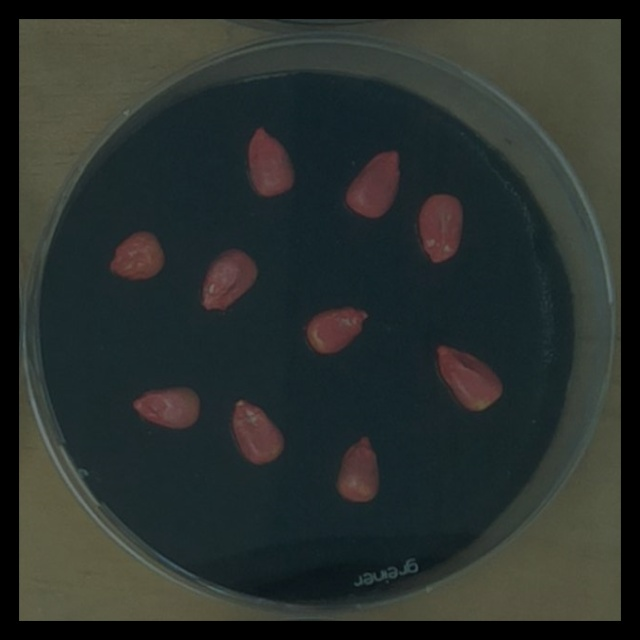Zea mays: (428, 337, 510, 416), (337, 142, 408, 225), (193, 241, 263, 319), (240, 116, 303, 202), (227, 392, 292, 471), (411, 184, 470, 271), (330, 428, 387, 509), (126, 378, 208, 434), (300, 298, 374, 360), (102, 221, 170, 286)
